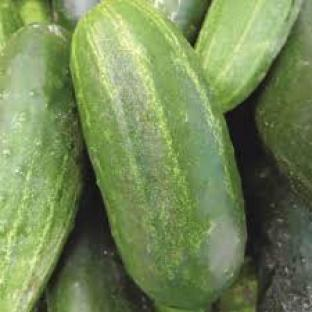Cucumber: (0, 24, 83, 311), (46, 185, 151, 311), (245, 159, 311, 311), (214, 258, 257, 311)
